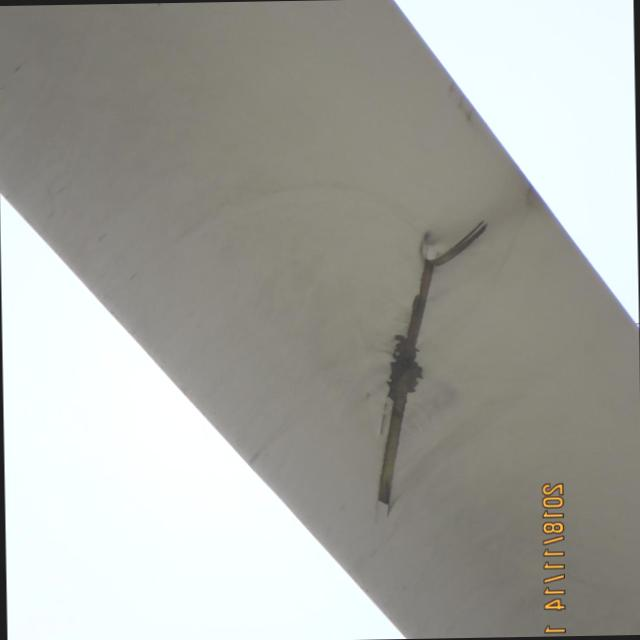crack: (368, 215, 486, 506)
